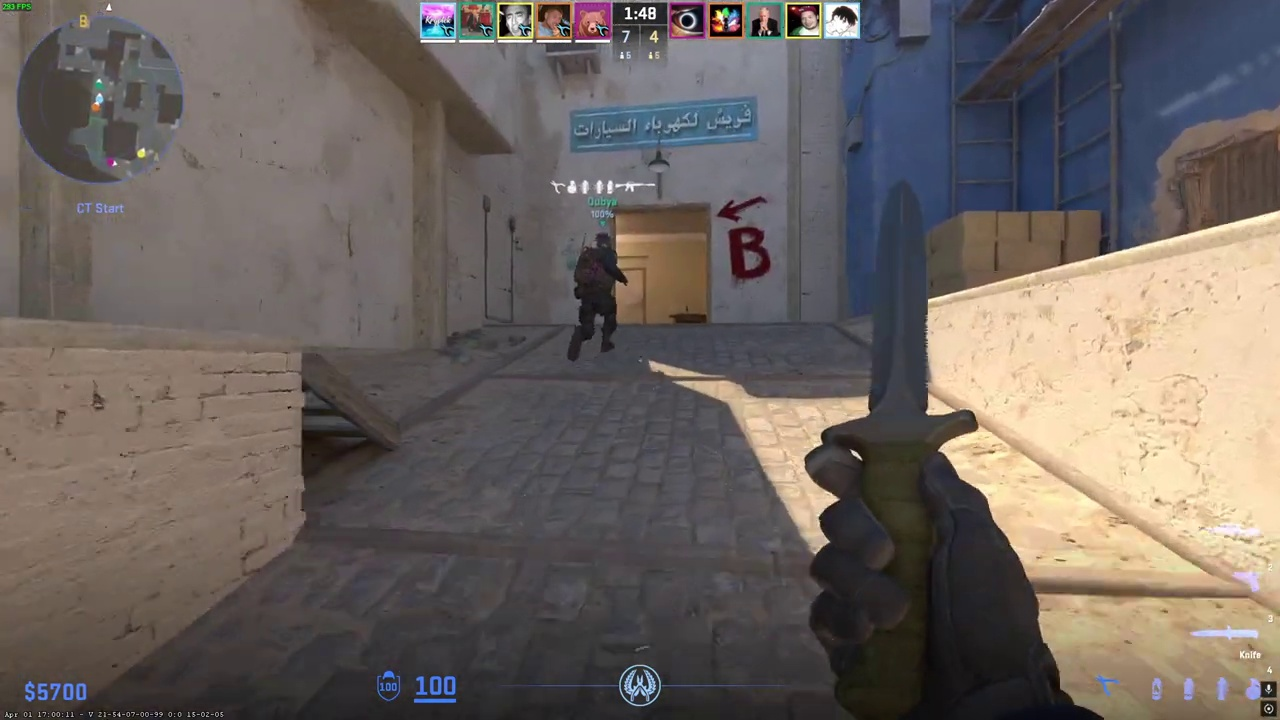CT: (569, 233, 625, 363)
